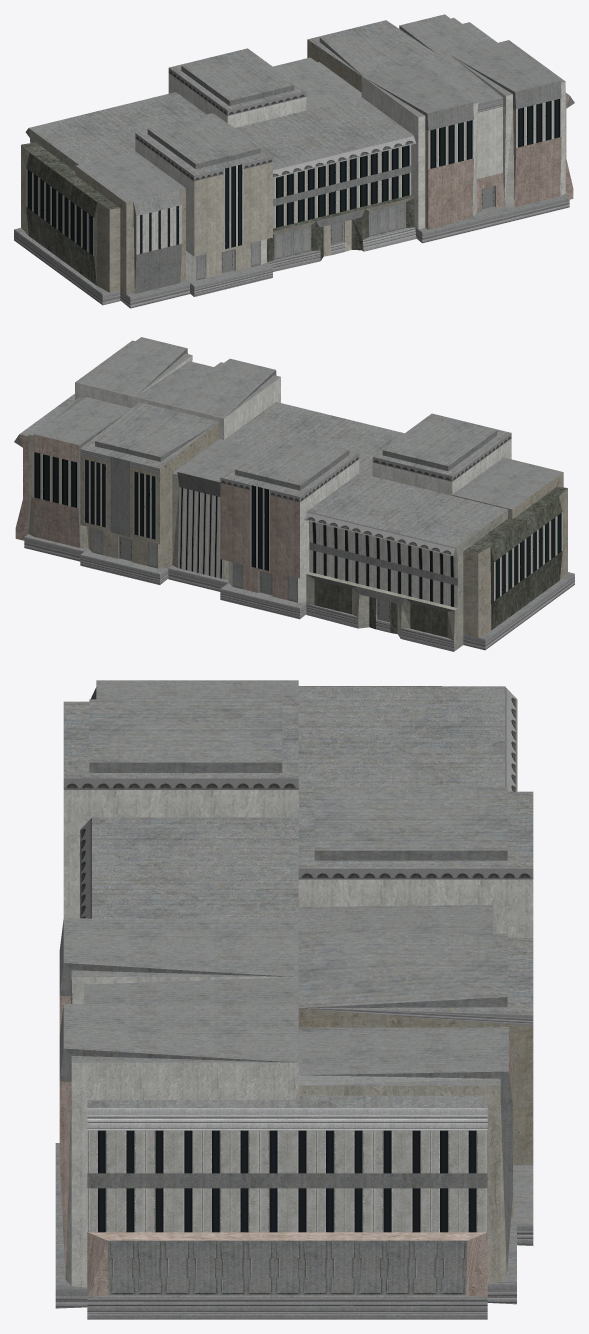
Rendered from thm_corl_imprv_building_block_64x32_s01_l2.fbx.
The picture shows the model from 3 angles, top to bottom: view 1: azimuth 30°, elevation 25°; view 2: azimuth 150°, elevation 25°; view 3: azimuth 270°, elevation 25°; orthographic projection. The views are drawn at different scales.
Visible parts, largest first — view 1: mesh_node; view 2: mesh_node; view 3: mesh_node.
Part boxes in pixels (x1,y1,x2,y2): mesh_node: [14, 14, 574, 308]; mesh_node: [14, 337, 574, 651]; mesh_node: [55, 680, 533, 1319].
Size of the model in its own units: 66.11 by 17.25 by 29.5.
